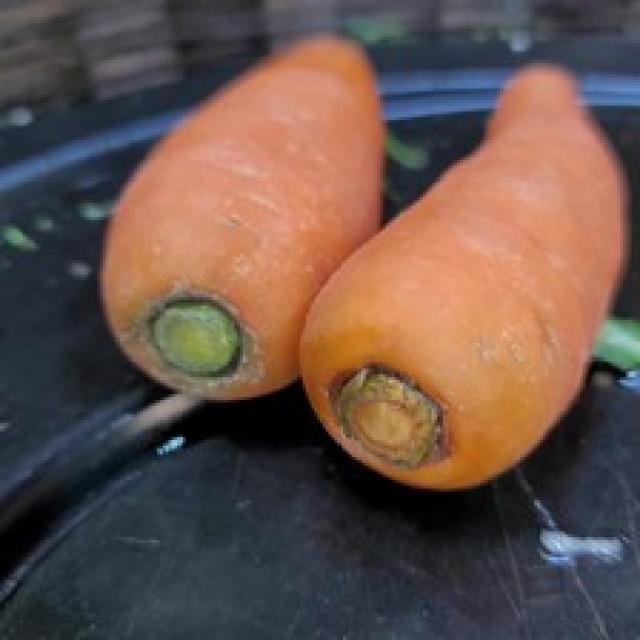carrot: (300, 62, 630, 486), (99, 36, 385, 398)
